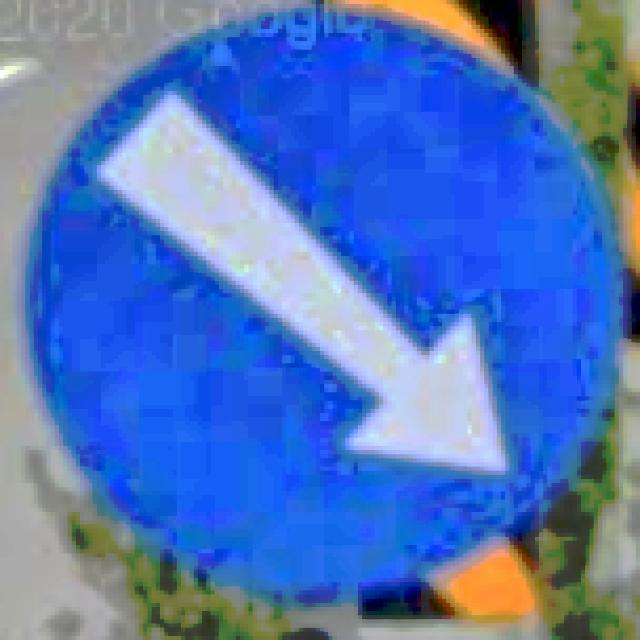thisway: (17, 0, 627, 607)
